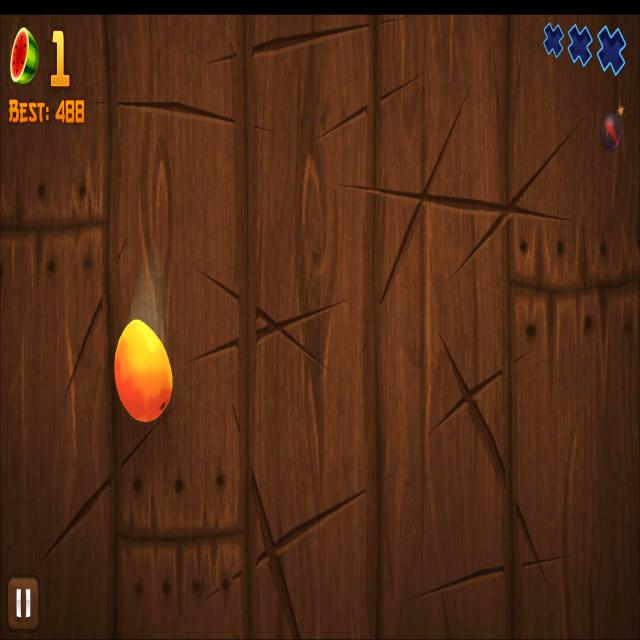fruit: (114, 319, 173, 423)
